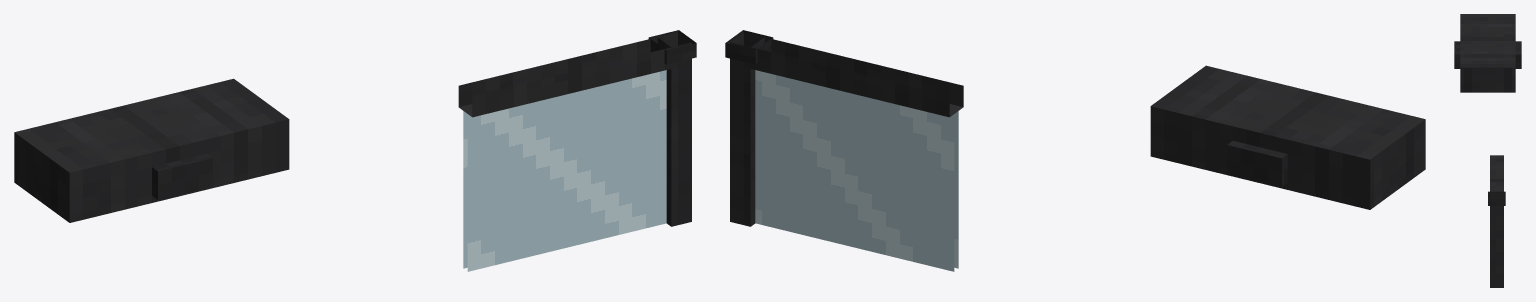
File: auto_door_wide_slider_black_c0_upper_right_open.obj
3 views of the same model, side by side, from view 1: azimuth 30°, elevation 25°; view 2: azimuth 150°, elevation 25°; view 3: azimuth 270°, elevation 25° (orthographic). The views are drawn at different scales.
Visible parts, largest first — view 1: auto_door_wide_slider_black_c0_upper_right_open; view 2: auto_door_wide_slider_black_c0_upper_right_open; view 3: auto_door_wide_slider_black_c0_upper_right_open.
Boxes of the visible parts, <box> form: auto_door_wide_slider_black_c0_upper_right_open: <box>14,30,696,271</box>; auto_door_wide_slider_black_c0_upper_right_open: <box>725,30,1425,271</box>; auto_door_wide_slider_black_c0_upper_right_open: <box>1454,14,1521,287</box>.
Bounding box in the file's own units: 2.98 × 1 × 0.5312.
